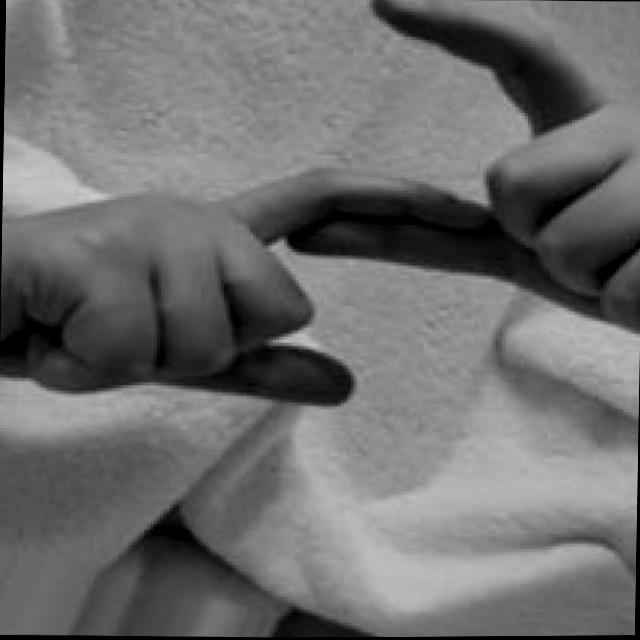S: (0, 0, 640, 413)
